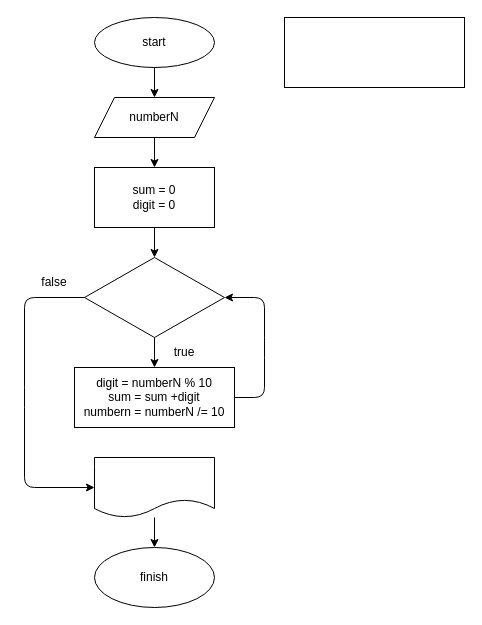
The diagram is 482 pixels wide and 625 high, and some of its shapes have lost their labels. Here are the shapes that lost their labels. From the top down, the box of each, then its label:
(284, 16, 464, 88): Напишите программу, которая принимает на вход число и выдаёт сумму цифр в числе
(84, 256, 224, 338): numberN > 0
(94, 456, 214, 518): sum
